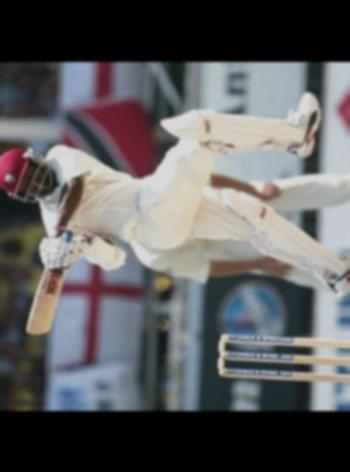batsman: (0, 66, 350, 341)
